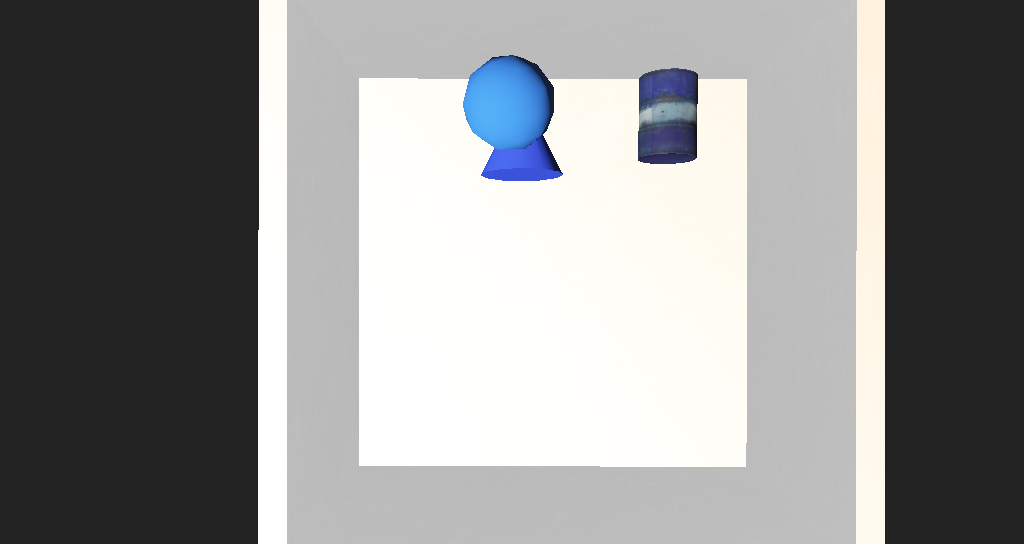cone: (566, 160, 620, 212)
cylinder: (451, 169, 505, 222)
sphere: (431, 155, 499, 208)
